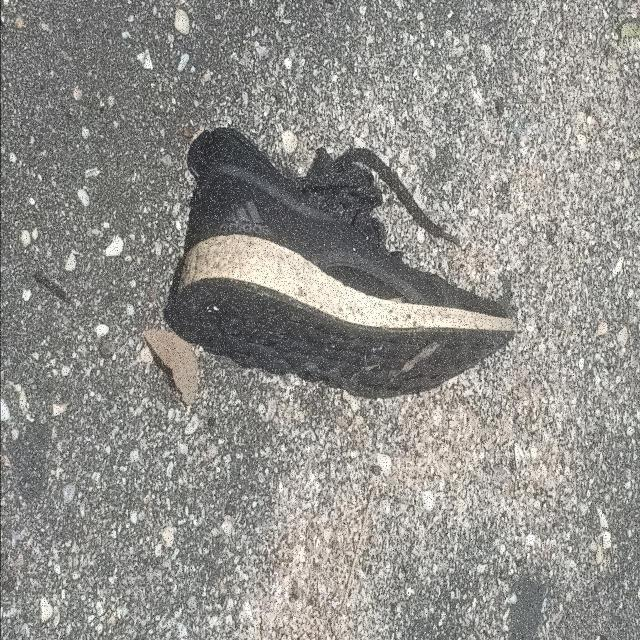rubber_waste: (170, 129, 516, 397)
